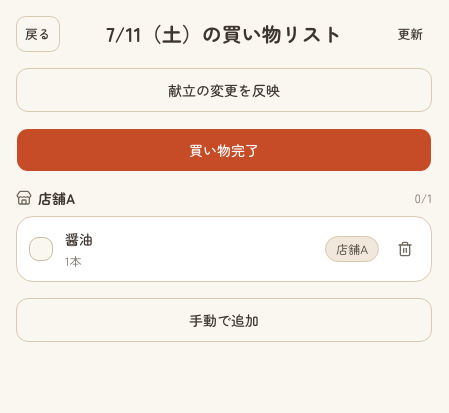
Test case: ShoppingListClient（献立の変更を反映） › SY-06: 失敗レスポンスではエラーを表示し品目は変えない
Click the button "献立の変更を反映": click(224, 90) x1=16 y1=68 x2=432 y2=112
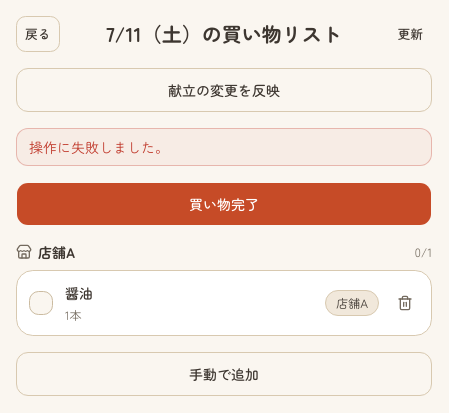
Expected: the checkbox named "醤油" is shown, x1=29 y1=291 x2=53 y2=315
Now the text "操作に失敗しました。" is shown, box x1=16 y1=128 x2=432 y2=166
